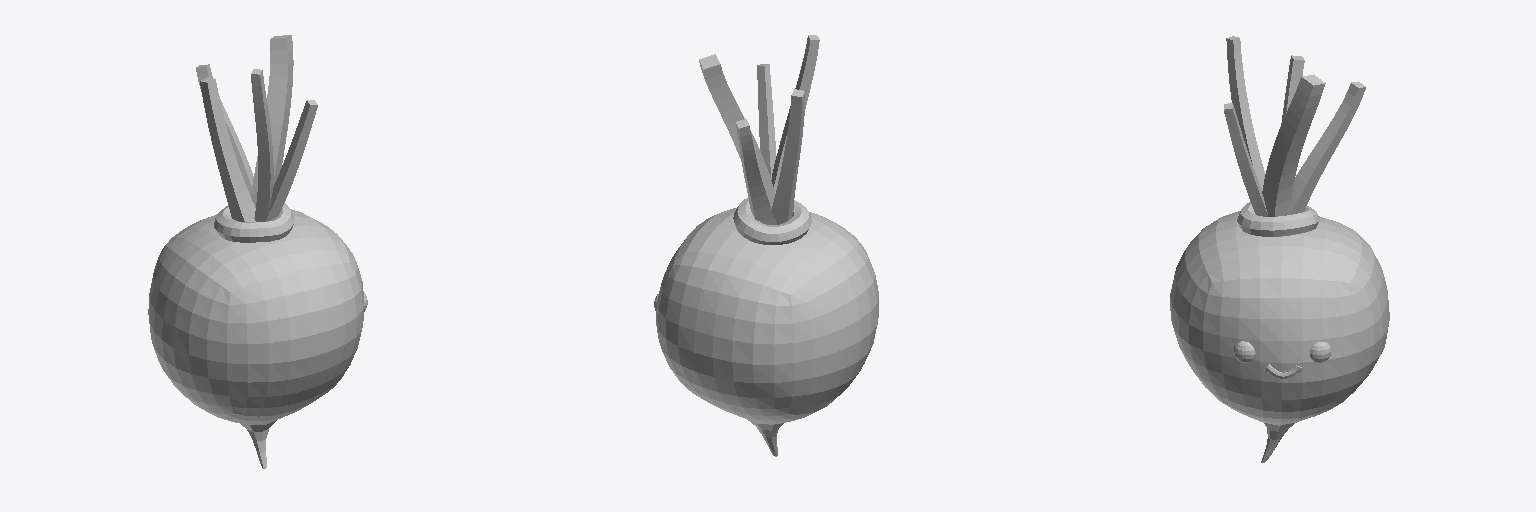
Rendered from radish.obj.
3 renders of one model, left to right at view 1: azimuth 30°, elevation 25°; view 2: azimuth 150°, elevation 25°; view 3: azimuth 270°, elevation 25°, orthographic.
Visible parts, largest first — view 1: Cube.001; view 2: Cube.001; view 3: Cube.001.
Boxes of the visible parts, box(x1,y1,x2,y2) form: Cube.001: box(148, 35, 367, 468); Cube.001: box(654, 35, 878, 456); Cube.001: box(1170, 36, 1389, 462).
Size of the model in its own units: 0.9054 by 1.92 by 0.9239.